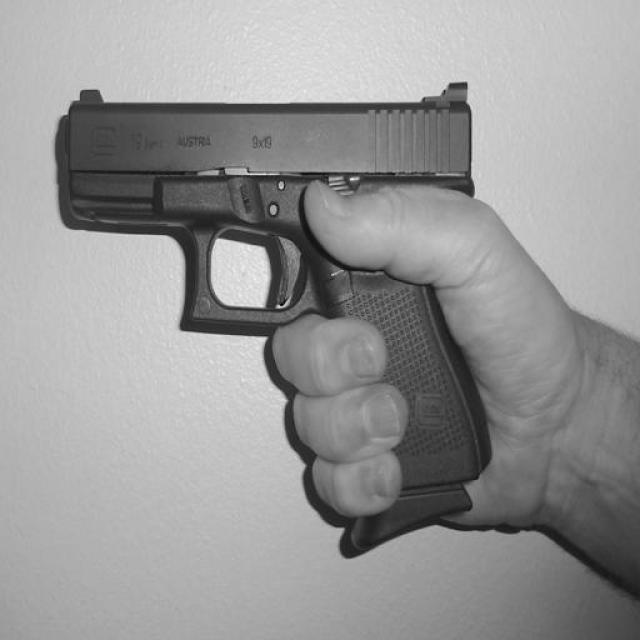pistol: (60, 82, 494, 555)
